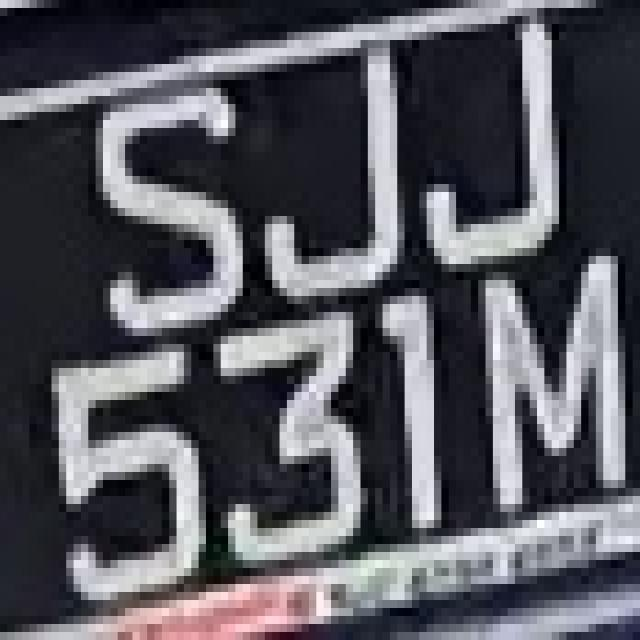1: (375, 288, 464, 568)
3: (214, 296, 360, 568)
5: (37, 336, 213, 600)
J: (390, 40, 596, 288), (250, 56, 419, 272)
M: (456, 248, 633, 544)
S: (51, 72, 258, 336)
